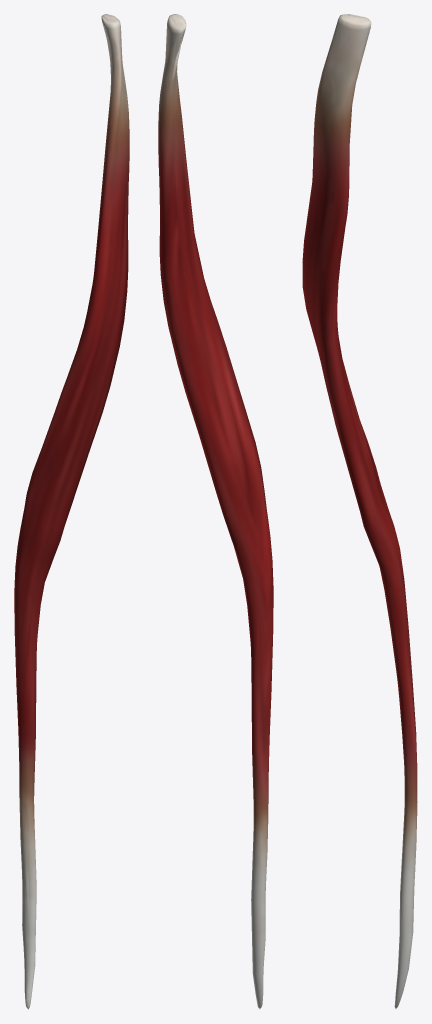
File: R Pronator teres.fbx
3 views of the same model, side by side, from view 1: azimuth 30°, elevation 25°; view 2: azimuth 210°, elevation 25°; view 3: azimuth 270°, elevation 25° (orthographic). The views are drawn at different scales.
Parts seen in each view (by area): view 1: R Pronator teres, R Pronator teres low, R Pronator teres high; view 2: R Pronator teres, R Pronator teres low, R Pronator teres high; view 3: R Pronator teres, R Pronator teres low, R Pronator teres high.
Part boxes in pixels (x1=…): R Pronator teres: x1=14, y1=14, x2=129, y2=1009; R Pronator teres low: x1=14, y1=14, x2=128, y2=1009; R Pronator teres high: x1=15, y1=15, x2=127, y2=1002; R Pronator teres: x1=158, y1=14, x2=273, y2=1009; R Pronator teres low: x1=159, y1=15, x2=271, y2=1009; R Pronator teres high: x1=158, y1=16, x2=272, y2=1002; R Pronator teres: x1=302, y1=14, x2=417, y2=1009; R Pronator teres low: x1=303, y1=15, x2=411, y2=1008; R Pronator teres high: x1=303, y1=16, x2=417, y2=1001.
Bounding box in the file's own units: 0.9824 × 10.28 × 1.05.
1 material, 1 textured.
